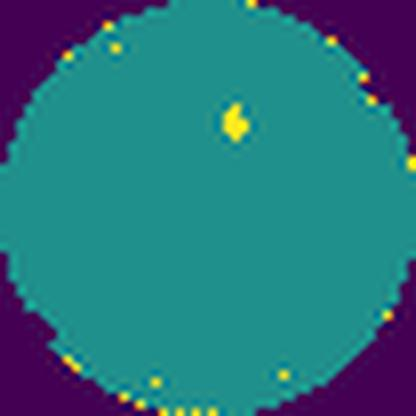Loc: (217, 99, 254, 143)
